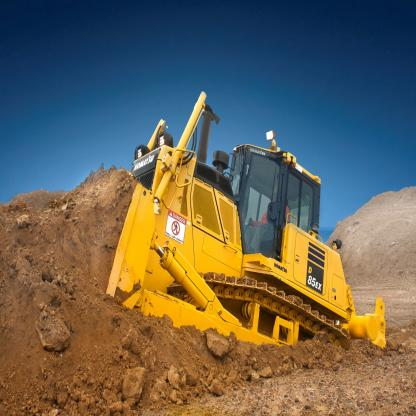bull_dozer/loader/grader: (70, 92, 378, 402)
